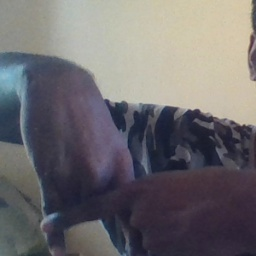H: (20, 130, 164, 246)
